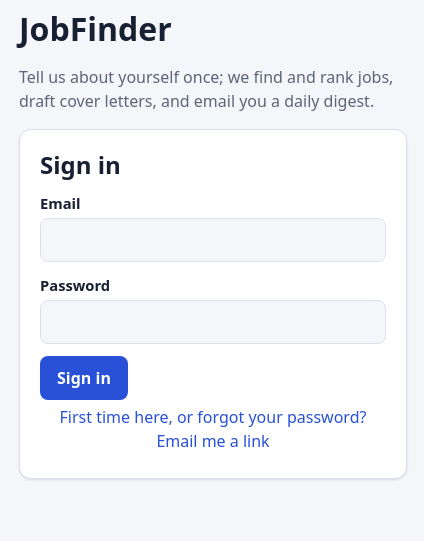
Scenario: sign-in page › shows the server's error for a failed sign-in
Type "a@b.com" into the field labelled "Email".
click(213, 240); type("a@b.com")  # box [40, 218, 386, 262]
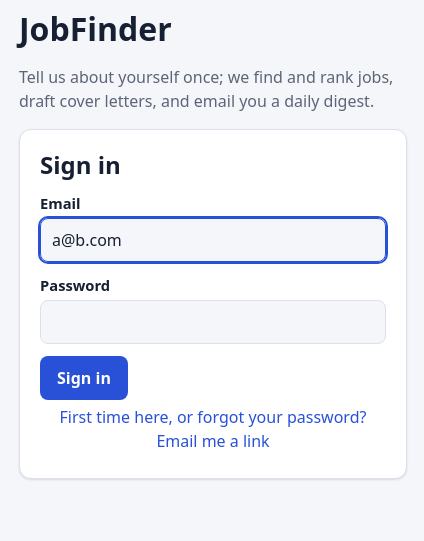
Type "nope" into the password field labelled "Password".
click(213, 322); type("nope")  # box [40, 300, 386, 344]
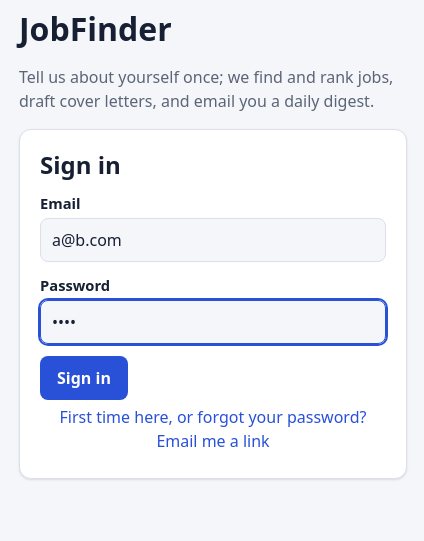
Click the button "Sign in".
click(84, 378)  # box [40, 356, 128, 400]
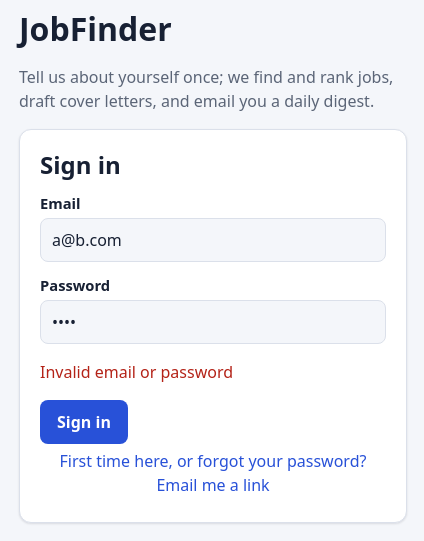
Check: the text "Invalid email or password" is shown, box [40, 361, 233, 383]
